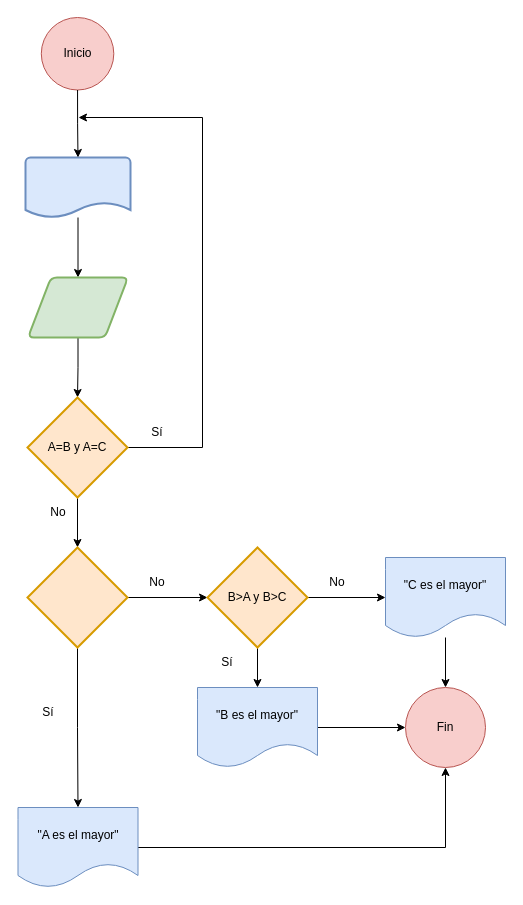
The diagram is 523 pixels wide and 905 high, and some of its shapes have lost their labels. The shapes that lost their labels are listed below. From the top down, each one's box as (x1, y1, x2, y2) in pixels, then its label:
(24, 156, 131, 218): "Introduce tres números distintos"
(26, 276, 128, 338): A, B, C
(26, 546, 128, 648): A>B y A>C
